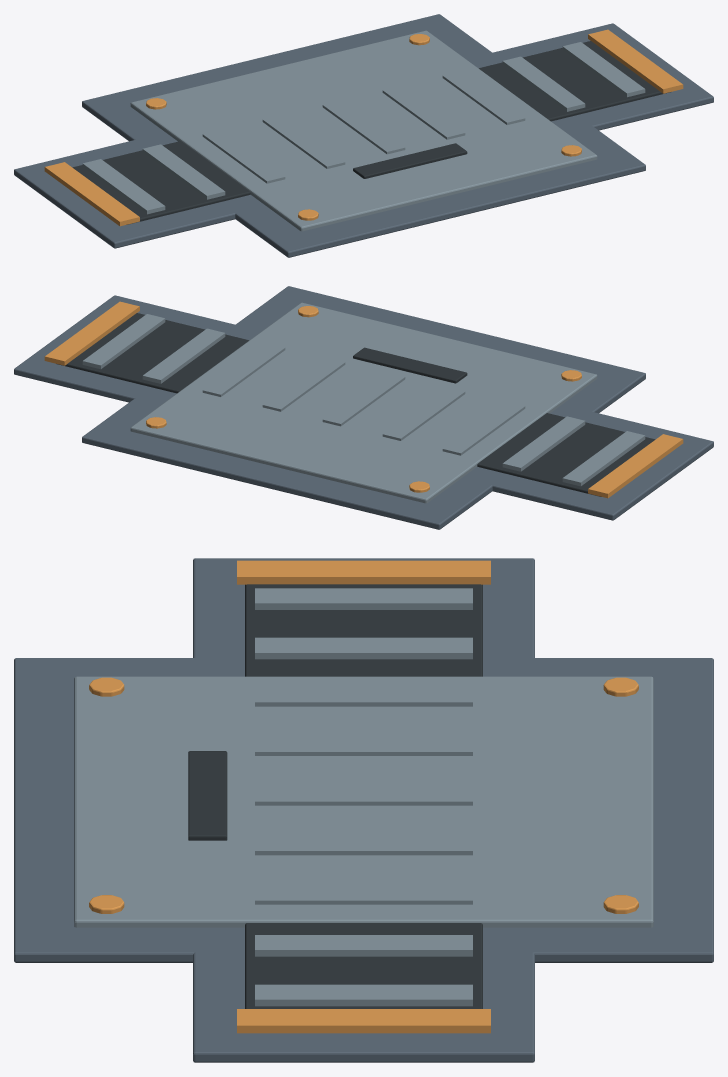
Rendered from floor-utilities.glb.
3 renders of one model, top to bottom at view 1: azimuth 30°, elevation 25°; view 2: azimuth 150°, elevation 25°; view 3: azimuth 270°, elevation 25°, orthographic. The views are drawn at different scales.
Parts seen in each view (by area): view 1: Visual_FloorHatch_Panel, Visual_FloorHatch_Frame, Visual_FloorDrain_Slats, Visual_FloorDrain_Frame, Visual_FloorDrain_Recess, Visual_FloorDrain_EndMarks, Visual_FloorHatch_Grip, Visual_Merged_ZA_FloorHatch_Root_Warning_Orange; view 2: Visual_FloorHatch_Panel, Visual_FloorHatch_Frame, Visual_FloorDrain_Slats, Visual_FloorDrain_Frame, Visual_FloorDrain_Recess, Visual_FloorDrain_EndMarks, Visual_FloorHatch_Grip, Visual_Merged_ZA_FloorHatch_Root_Warning_Orange; view 3: Visual_FloorHatch_Panel, Visual_FloorHatch_Frame, Visual_FloorDrain_Slats, Visual_FloorDrain_Frame, Visual_FloorDrain_Recess, Visual_FloorDrain_EndMarks, Visual_FloorHatch_Grip, Visual_Merged_ZA_FloorHatch_Root_Warning_Orange.
Boxes of the visible parts, x1,y1,x2,y2 form: Visual_FloorHatch_Panel: (130,30,597,231); Visual_FloorHatch_Frame: (82,14,645,257); Visual_FloorDrain_Slats: (82,42,645,214); Visual_FloorDrain_Frame: (14,23,713,248); Visual_FloorDrain_Recess: (72,41,670,224); Visual_FloorDrain_EndMarks: (44,29,683,226); Visual_FloorHatch_Grip: (353,143,467,178); Visual_Merged_ZA_FloorHatch_Root_Warning_Orange: (146,34,581,220); Visual_FloorHatch_Panel: (130,302,597,503); Visual_FloorHatch_Frame: (82,286,645,529); Visual_FloorDrain_Slats: (82,314,645,486); Visual_FloorDrain_Frame: (14,295,713,520); Visual_FloorDrain_Recess: (57,313,655,496); Visual_FloorDrain_EndMarks: (44,301,683,498); Visual_FloorHatch_Grip: (353,347,467,383); Visual_Merged_ZA_FloorHatch_Root_Warning_Orange: (146,306,581,492); Visual_FloorHatch_Panel: (74,676,653,927); Visual_FloorHatch_Frame: (14,658,713,962); Visual_FloorDrain_Slats: (255,588,472,1006); Visual_FloorDrain_Frame: (193,558,534,1062); Visual_FloorDrain_Recess: (245,584,482,1008); Visual_FloorDrain_EndMarks: (237,560,490,1033); Visual_FloorHatch_Grip: (188,751,227,840); Visual_Merged_ZA_FloorHatch_Root_Warning_Orange: (89,677,638,913).
Size of the model in its own units: 3.6 by 0.077 by 2.15.
